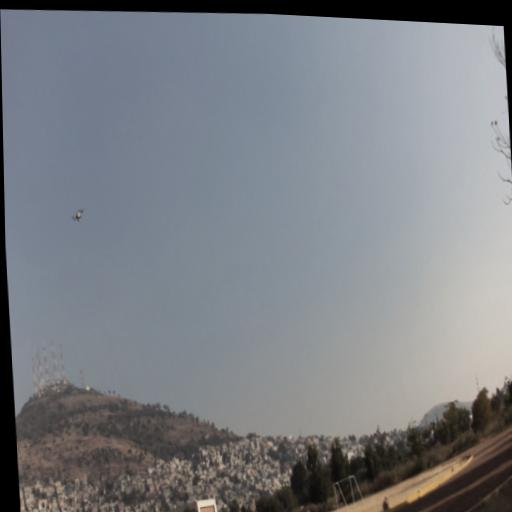drones: (70, 202, 86, 225)
